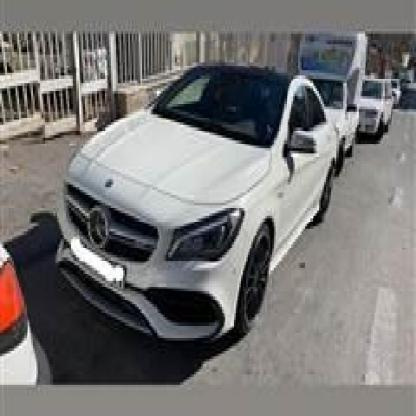Car: (42, 75, 332, 312), (302, 31, 367, 164), (354, 73, 397, 143)
